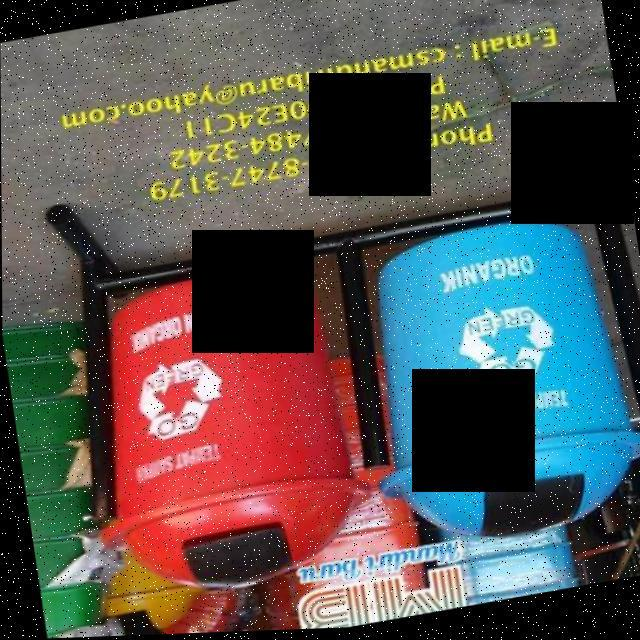bin: (26, 230, 383, 635), (332, 183, 640, 582)
